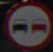No overtake: (4, 5, 50, 43)
